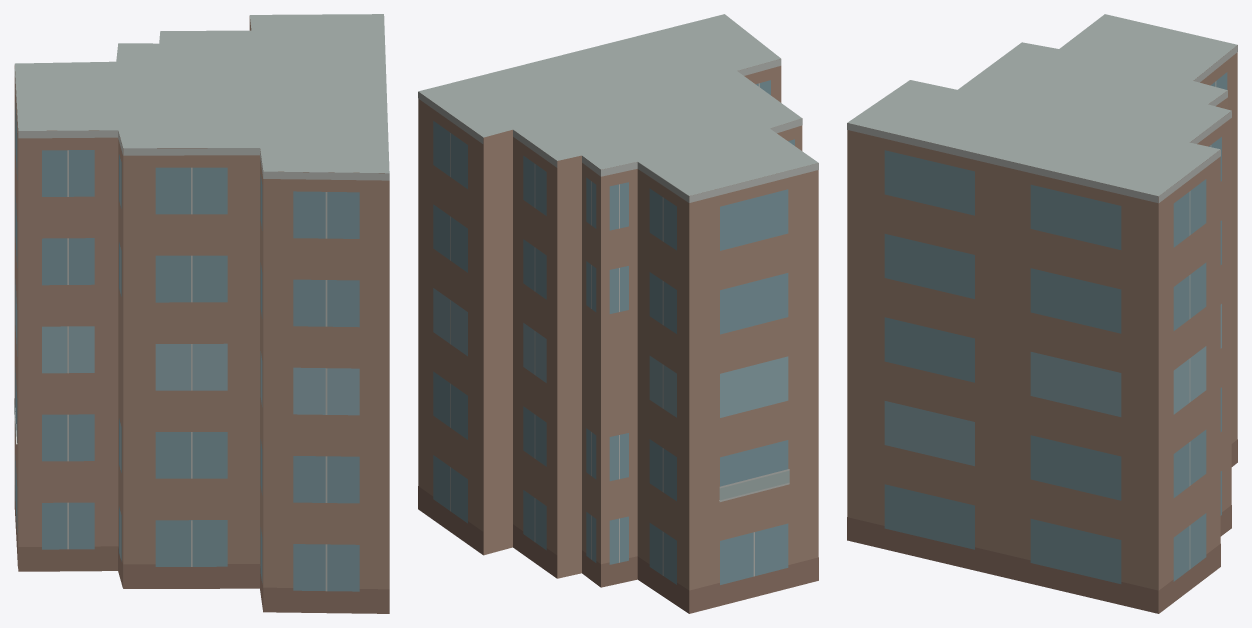
The model's file is survey-upis-32760476.glb.
3 renders of one model, left to right at view 1: azimuth 30°, elevation 25°; view 2: azimuth 150°, elevation 25°; view 3: azimuth 270°, elevation 25°, orthographic. The views are drawn at different scales.
Parts seen in each view (by area): view 1: survey-upis-32760476.tmp; view 2: survey-upis-32760476.tmp; view 3: survey-upis-32760476.tmp.
Boxes of the visible parts, box(x1,y1,x2,y2) form: survey-upis-32760476.tmp: box(14, 14, 389, 613); survey-upis-32760476.tmp: box(418, 14, 818, 613); survey-upis-32760476.tmp: box(847, 14, 1237, 613).
Bounding box in the file's own units: 13.58 × 14.5 × 12.3.
